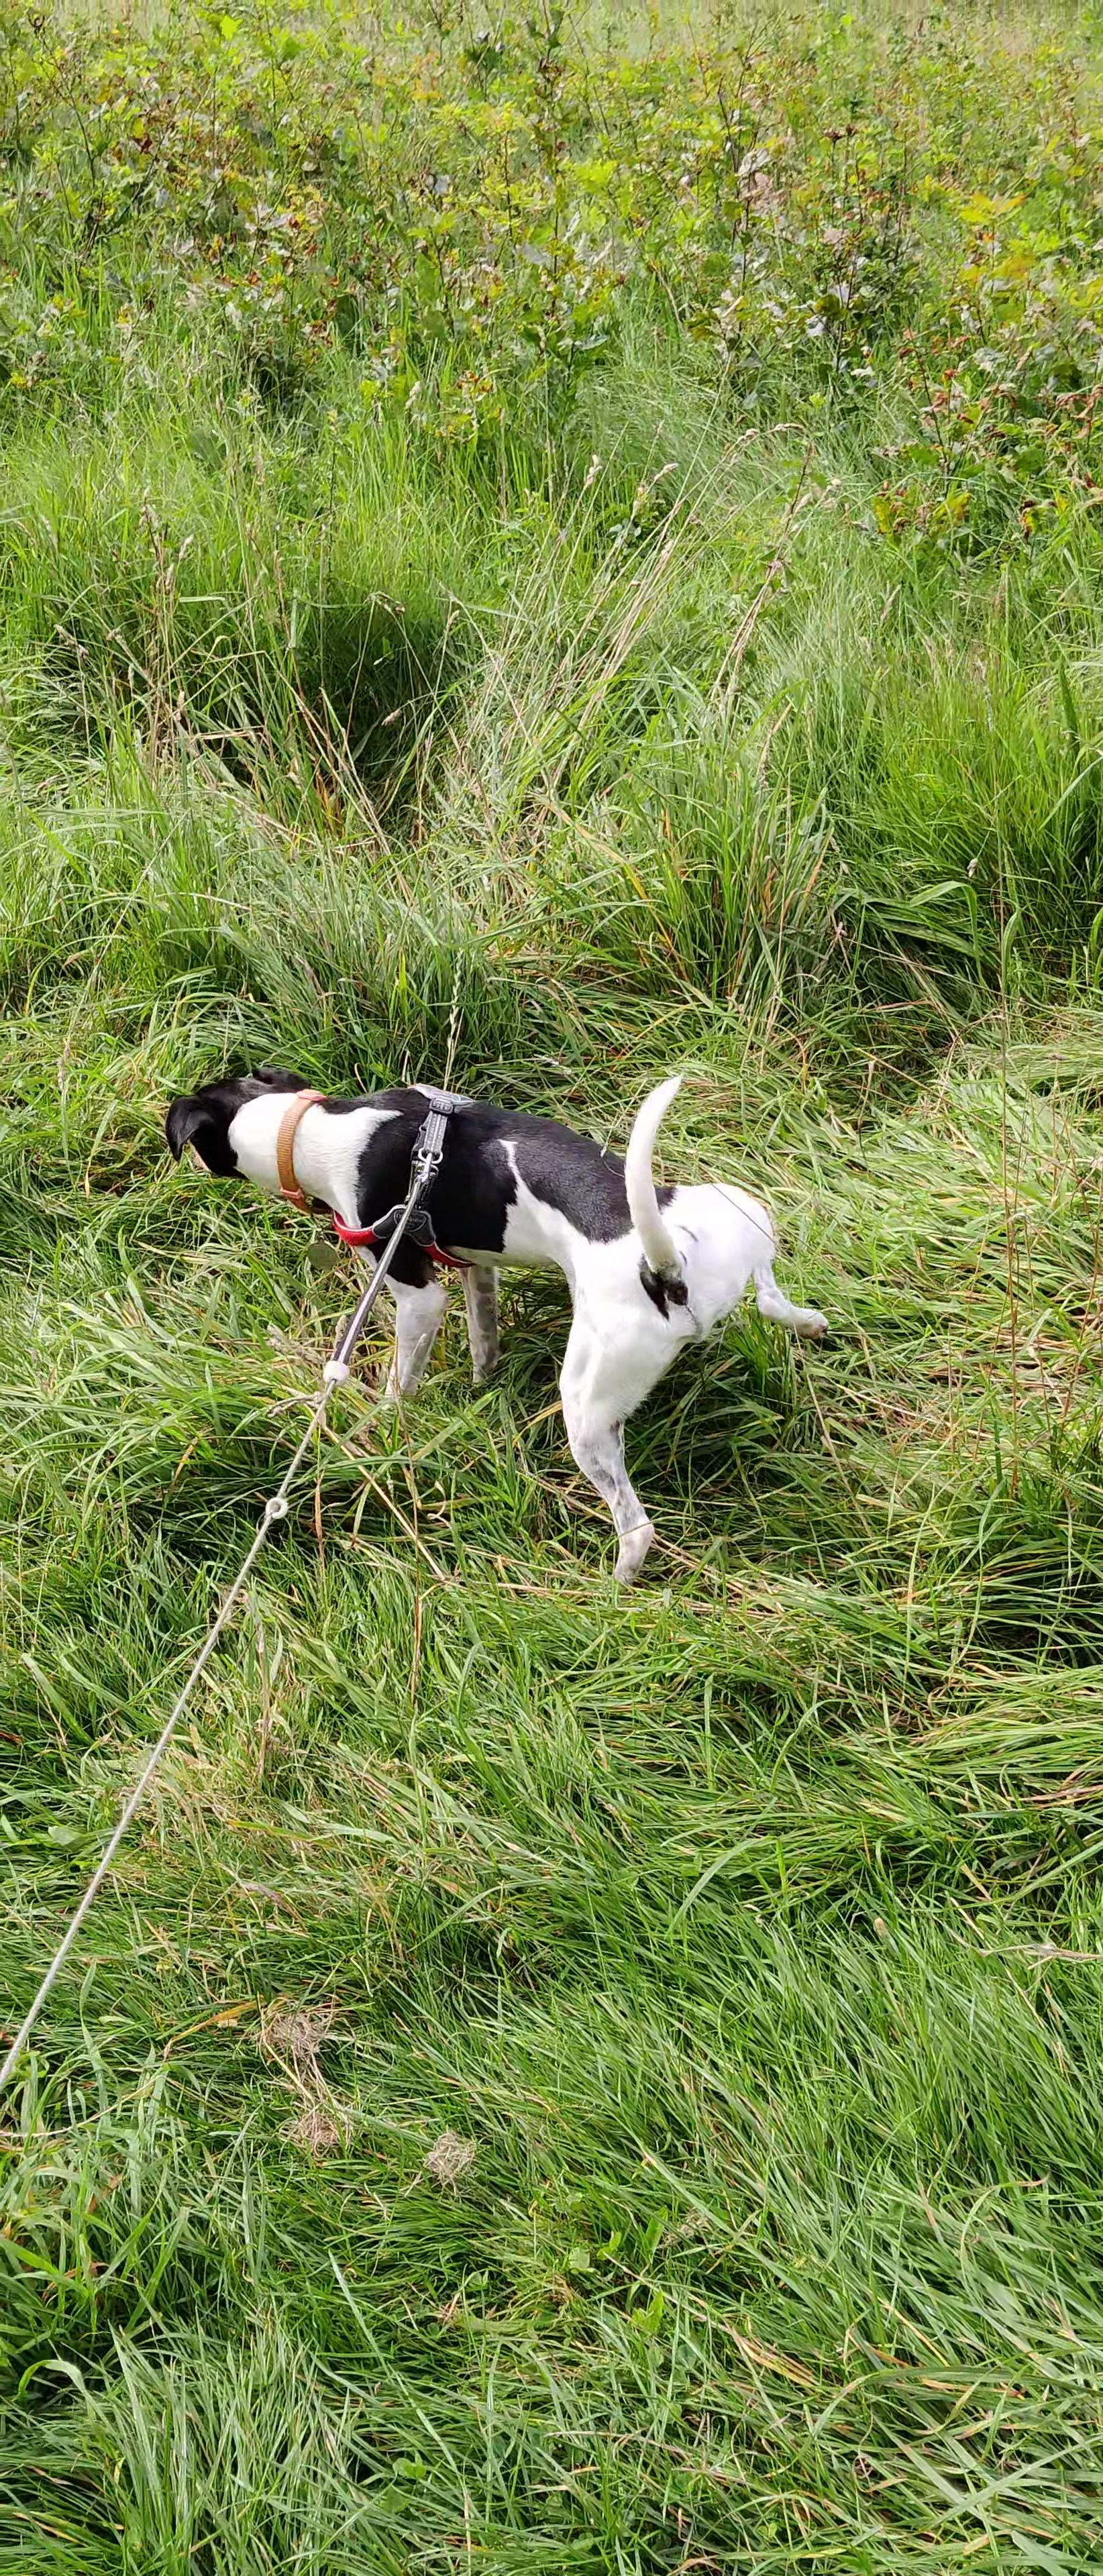Dog: (153, 1053, 842, 1597)
